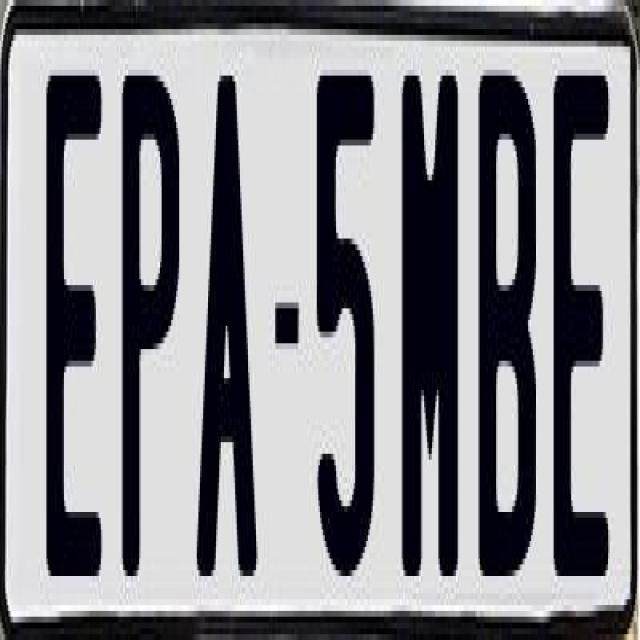5: (316, 58, 379, 570)
A: (196, 64, 260, 588)
B: (477, 70, 541, 576)
E: (42, 70, 102, 606), (548, 58, 610, 559)
M: (398, 64, 458, 570)
P: (119, 76, 182, 576)
